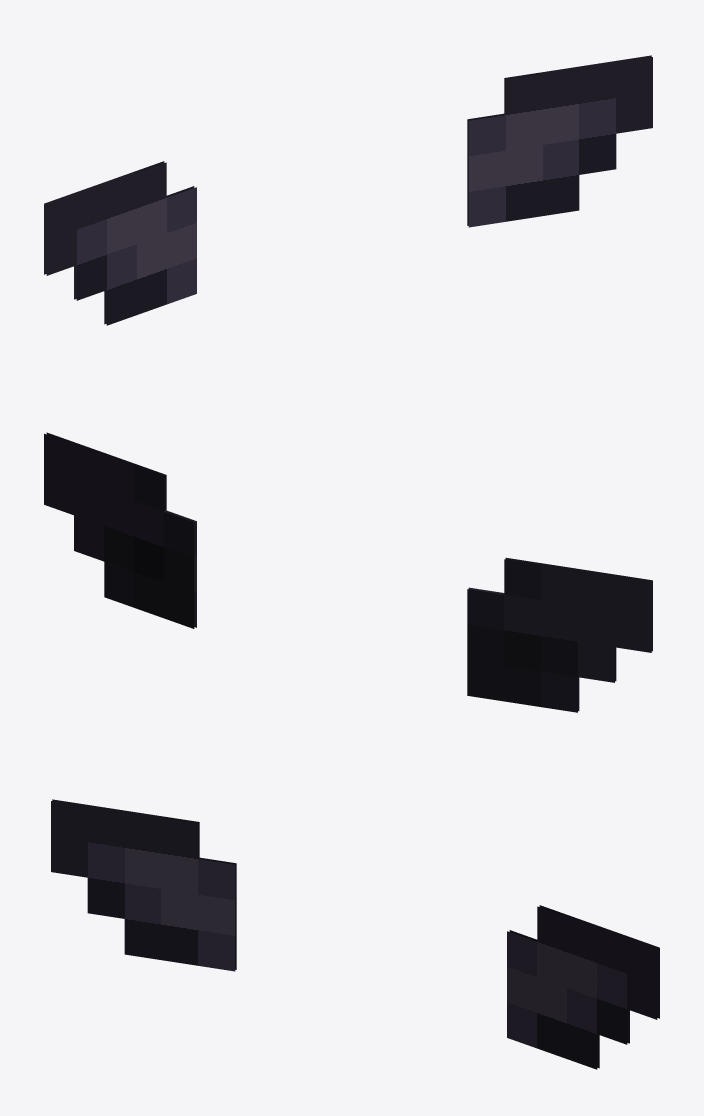
Rendered from sl_deer_ears.glb.
3 renders of one model, top to bottom at view 1: azimuth 30°, elevation 25°; view 2: azimuth 150°, elevation 25°; view 3: azimuth 330°, elevation 25°, orthographic.
Parts seen in each view (by area): view 1: bb_deer_ears; view 2: bb_deer_ears; view 3: bb_deer_ears.
Part boxes in pixels (box(x1,y1,x2,y2)): bb_deer_ears: box(44, 55, 652, 325); bb_deer_ears: box(44, 432, 652, 712); bb_deer_ears: box(51, 799, 659, 1069).
Bounding box in the file's own units: 1.24 × 0.3125 × 0.0713.
1 material, 1 textured.
